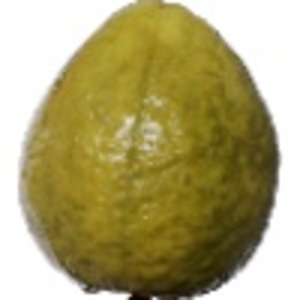goiaba: (6, 3, 285, 295)
